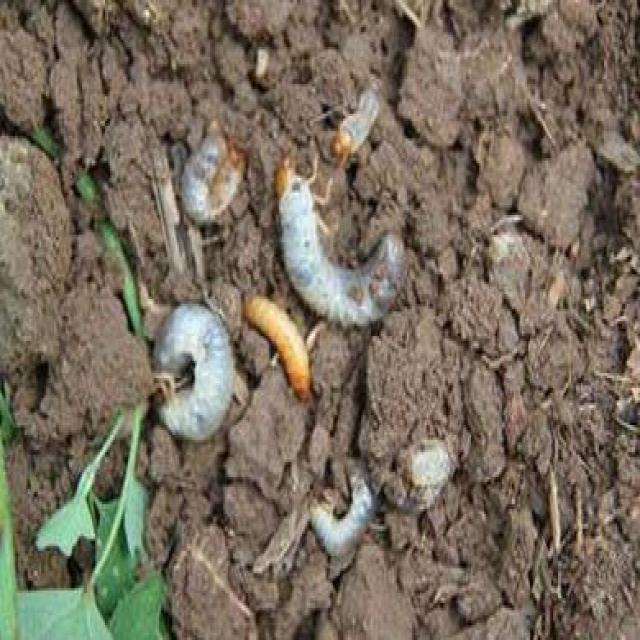Grub-Adult-: (263, 156, 412, 331), (137, 290, 244, 458), (293, 438, 378, 587), (174, 132, 252, 231)
